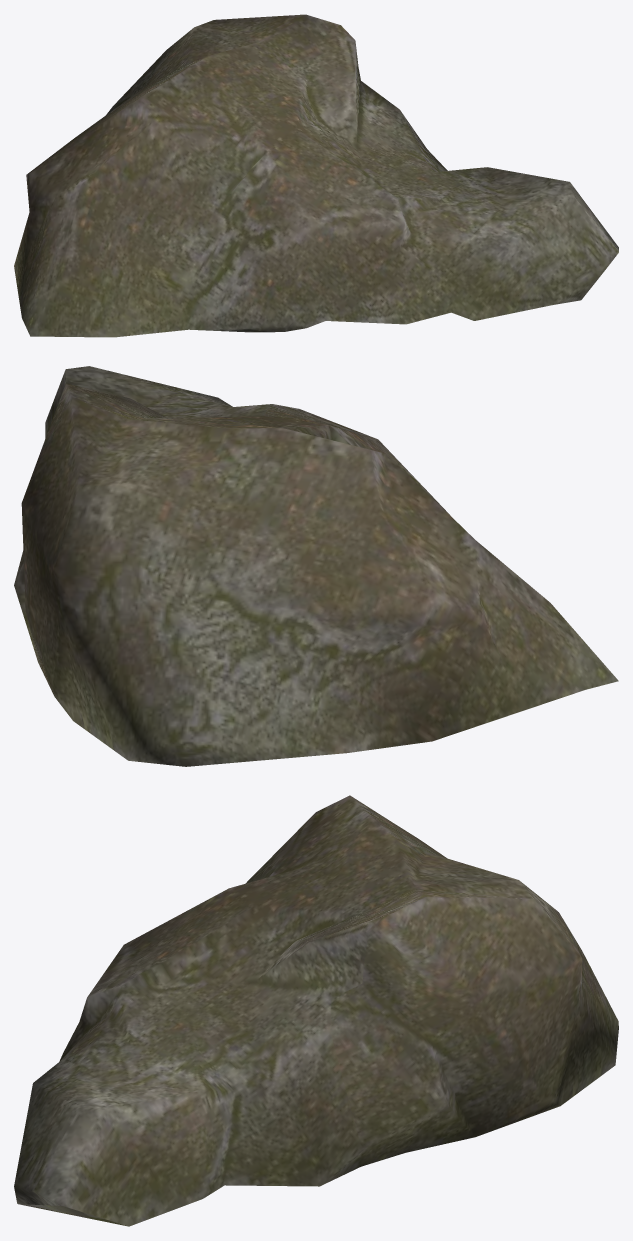
File: Rock_03.glb
The picture shows the model from 3 angles, top to bottom: view 1: azimuth 30°, elevation 25°; view 2: azimuth 150°, elevation 25°; view 3: azimuth 270°, elevation 25°; orthographic projection. The views are drawn at different scales.
Visible parts, largest first — view 1: SM_Rock_03; view 2: SM_Rock_03; view 3: SM_Rock_03.
Boxes of the visible parts, bbox=[...] form: SM_Rock_03: bbox=[14, 14, 618, 337]; SM_Rock_03: bbox=[14, 366, 618, 766]; SM_Rock_03: bbox=[14, 795, 618, 1226].
Size of the model in its own units: 1.8 by 0.6621 by 1.48.
Materials: 1 (1 with a texture image).
